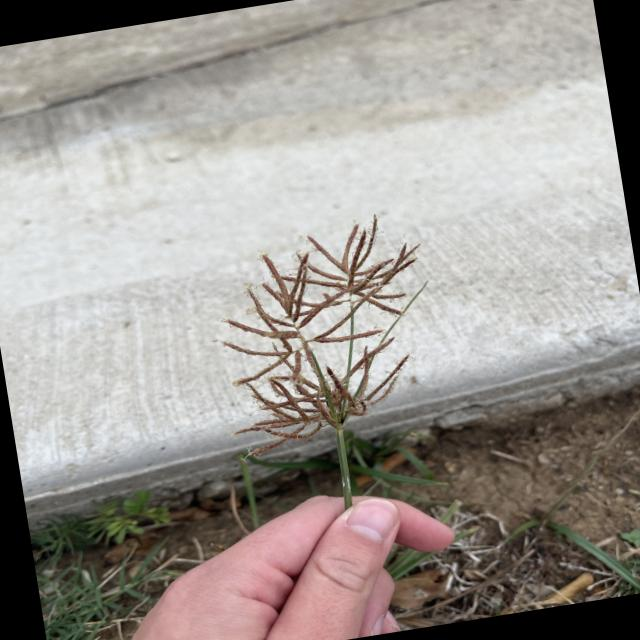cyperus: (203, 210, 459, 460)
